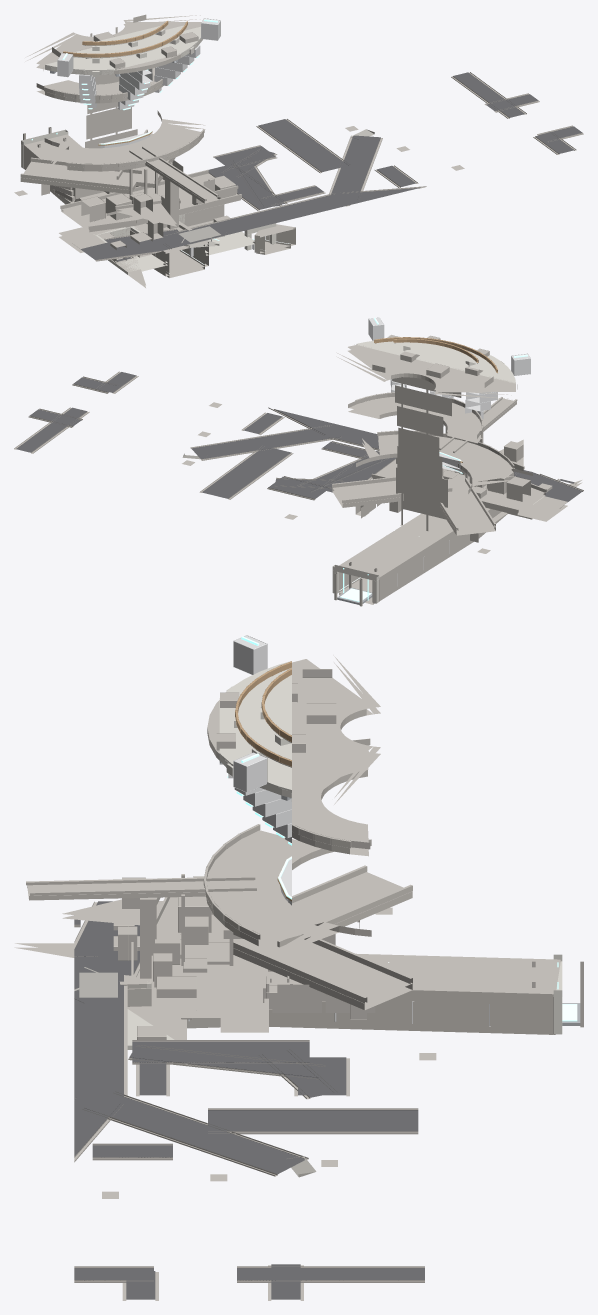
The model's file is tile_3_3.glb.
3 views of the same model, one above another, from view 1: azimuth 30°, elevation 25°; view 2: azimuth 150°, elevation 25°; view 3: azimuth 270°, elevation 25° (orthographic). The views are drawn at different scales.
Parts seen in each view (by area): view 1: t3_3_c12_12_-1_road, t3_3-occonly, t3_3_hlod, t3_3_c12_12_-1_concrete, lm_t3_3_c11_11_1_stone, lm_t3_3_c11_11_1_panel_white, t3_3_c12_12_-1_stone, lm_t3_3_c11_11_1_bronze, t3_3_c10_10_-1_concrete, t3_3_c12_12_-1_deck, lm_t3_3_c10_11_1_panel_white; view 2: t3_3-occonly, t3_3_c12_12_-1_road, t3_3_hlod, t3_3_c12_12_-1_concrete, lm_t3_3_c11_11_1_stone, lm_t3_3_c11_11_1_panel_white, lm_t3_3_c11_11_1_bronze, t3_3_c10_10_-1_concrete, t3_3_c12_12_-1_stone, lm_t3_3_c10_11_1_panel_white; view 3: t3_3_hlod, t3_3_c12_12_-1_road, t3_3-occonly, t3_3_c12_12_-1_concrete, lm_t3_3_c11_11_1_stone, lm_t3_3_c11_11_1_panel_white, lm_t3_3_c11_11_1_bronze, t3_3_c12_12_-1_deck, t3_3_c12_12_-1_stone, lm_t3_3_c10_11_1_panel_white.
Part boxes in pixels (box(x1,y1,x2,y2)): t3_3_c12_12_-1_road: box(79, 72, 582, 261); t3_3-occonly: box(20, 15, 219, 287); t3_3_hlod: box(20, 14, 241, 263); t3_3_c12_12_-1_concrete: box(14, 72, 583, 278); lm_t3_3_c11_11_1_stone: box(75, 25, 202, 76); lm_t3_3_c11_11_1_panel_white: box(79, 18, 220, 109); t3_3_c12_12_-1_stone: box(21, 129, 276, 274); lm_t3_3_c11_11_1_bronze: box(80, 21, 187, 57); t3_3_c10_10_-1_concrete: box(59, 223, 147, 252); t3_3_c12_12_-1_deck: box(179, 129, 374, 247); lm_t3_3_c10_11_1_panel_white: box(57, 53, 90, 93); t3_3-occonly: box(332, 345, 582, 535); t3_3_c12_12_-1_road: box(16, 372, 582, 506); t3_3_hlod: box(332, 335, 552, 542); t3_3_c12_12_-1_concrete: box(14, 371, 583, 606); lm_t3_3_c11_11_1_stone: box(356, 341, 503, 376); lm_t3_3_c11_11_1_panel_white: box(368, 317, 492, 426); lm_t3_3_c11_11_1_bronze: box(374, 337, 492, 365); t3_3_c10_10_-1_concrete: box(519, 496, 567, 521); t3_3_c12_12_-1_stone: box(332, 515, 532, 603); lm_t3_3_c10_11_1_panel_white: box(492, 353, 530, 400); t3_3_hlod: box(26, 669, 412, 1039); t3_3_c12_12_-1_road: box(74, 901, 424, 1299); t3_3-occonly: box(14, 655, 412, 1039); t3_3_c12_12_-1_concrete: box(74, 901, 583, 1300); lm_t3_3_c11_11_1_stone: box(219, 675, 291, 801); lm_t3_3_c11_11_1_panel_white: box(219, 752, 291, 842); lm_t3_3_c11_11_1_bronze: box(235, 668, 291, 766); t3_3_c12_12_-1_deck: box(74, 967, 316, 1177); t3_3_c12_12_-1_stone: box(127, 954, 562, 1049); lm_t3_3_c10_11_1_panel_white: box(233, 635, 267, 674).
Size of what is drawn, in the model's own units: 783 by 294 by 472.
